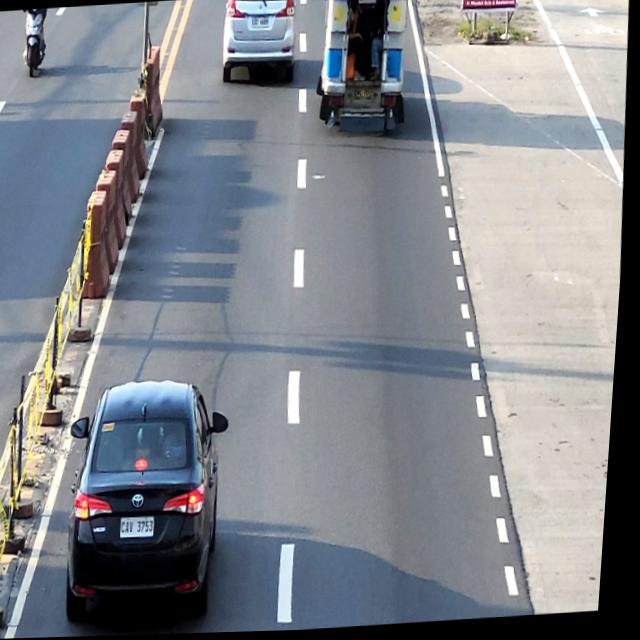Car: (64, 375, 244, 632), (219, 0, 299, 87)
Jeep: (315, 0, 415, 139)
License-Plate: (126, 516, 162, 540), (353, 87, 375, 102), (251, 17, 270, 31)
Motorcycle: (19, 8, 49, 76)
